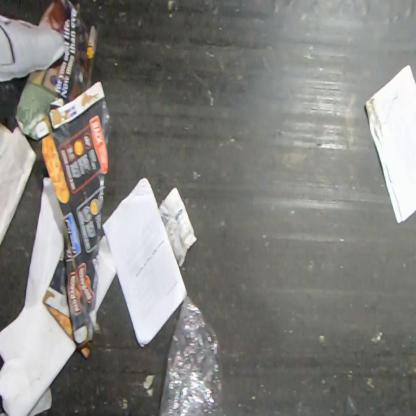cardboard: (40, 80, 112, 360)
soft_plastic: (157, 295, 228, 415)
